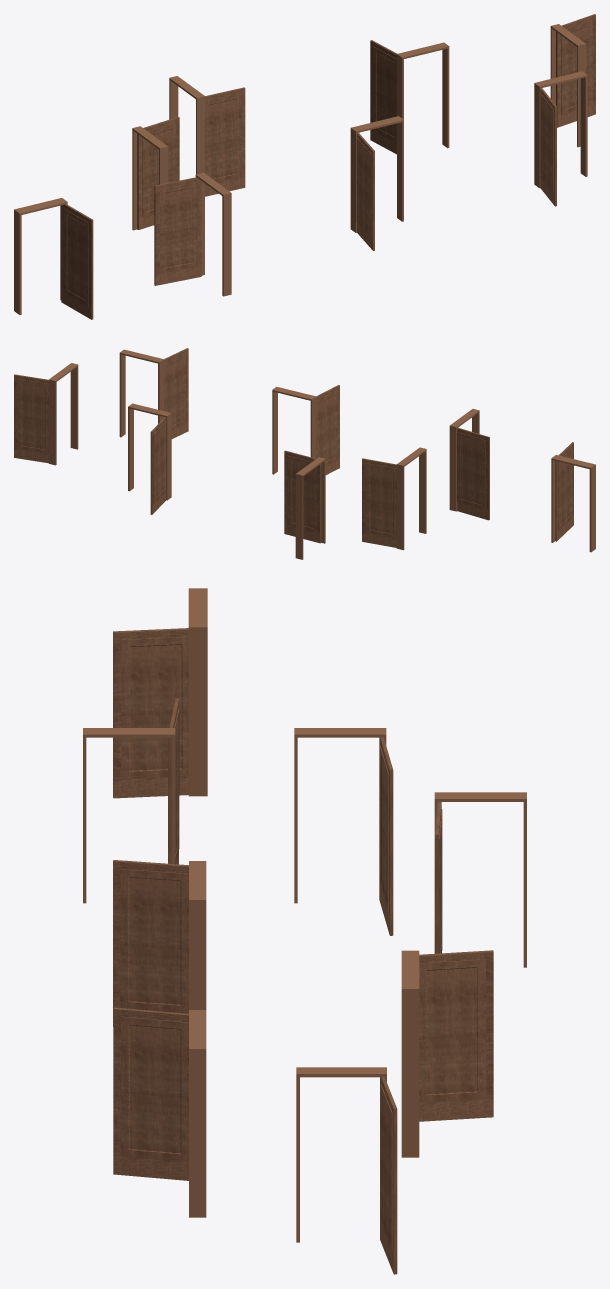
Rendered from doors_open01.obj.
3 views of the same model, one above another, from view 1: azimuth 30°, elevation 25°; view 2: azimuth 150°, elevation 25°; view 3: azimuth 270°, elevation 25° (orthographic). The views are drawn at different scales.
Parts seen in each view (by area): view 1: PivotDoor017, PivotDoor011, PivotDoor012, PivotDoor014, PivotDoor015, PivotDoor010, PivotDoor013, PivotDoor016; view 2: PivotDoor015, PivotDoor010, PivotDoor017, PivotDoor011, PivotDoor016, PivotDoor013, PivotDoor012, PivotDoor014; view 3: PivotDoor016, PivotDoor014, PivotDoor012, PivotDoor013, PivotDoor015, PivotDoor010, PivotDoor017, PivotDoor011.
Boxes of the visible parts, x1,y1,x2,y2 form: PivotDoor017: (154,172,231,296); PivotDoor011: (169,76,245,196); PivotDoor012: (14,198,93,319); PivotDoor014: (370,40,449,154); PivotDoor015: (550,14,595,147); PivotDoor010: (132,117,179,230); PivotDoor013: (350,116,403,250); PivotDoor016: (534,71,587,206); PivotDoor015: (14,363,78,465); PivotDoor010: (362,447,426,550); PivotDoor017: (449,409,489,520); PivotDoor011: (284,450,325,559); PivotDoor016: (119,348,188,438); PivotDoor013: (272,385,339,474); PivotDoor012: (551,442,595,552); PivotDoor014: (128,403,171,514); PivotDoor016: (113,1007,206,1217); PivotDoor014: (401,950,493,1157); PivotDoor012: (113,588,207,798); PivotDoor013: (113,860,206,1026); PivotDoor015: (296,1067,397,1274); PivotDoor010: (294,728,393,935); PivotDoor017: (83,698,179,903); PivotDoor011: (434,792,526,967).
Bounding box in the file's own units: 14.07 × 2.14 × 5.1.
Materials: 1 (1 with a texture image).
